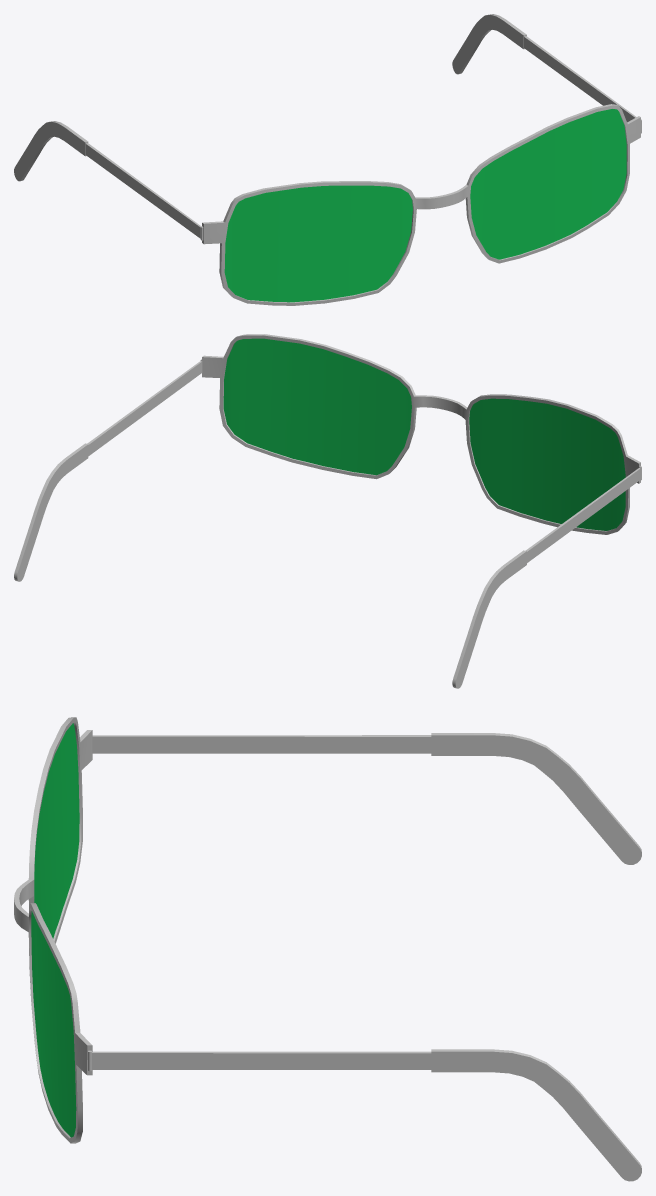
The model's file is glasses10.001.obj.
3 views of the same model, one above another, from view 1: azimuth 30°, elevation 25°; view 2: azimuth 150°, elevation 25°; view 3: azimuth 270°, elevation 25° (orthographic). The views are drawn at different scales.
Parts seen in each view (by area): view 1: glasses10.001_glasses10.001_Material.024, glasses10.001_glasses10.001_black; view 2: glasses10.001_glasses10.001_Material.024, glasses10.001_glasses10.001_black; view 3: glasses10.001_glasses10.001_black, glasses10.001_glasses10.001_Material.024.
Part boxes in pixels (x1,y1,x2,y2): glasses10.001_glasses10.001_Material.024: (224, 109, 626, 302); glasses10.001_glasses10.001_black: (14, 14, 641, 305); glasses10.001_glasses10.001_Material.024: (223, 338, 625, 530); glasses10.001_glasses10.001_black: (14, 334, 641, 688); glasses10.001_glasses10.001_black: (14, 717, 641, 1181); glasses10.001_glasses10.001_Material.024: (31, 723, 79, 1137).
Size of the model in its own units: 2.04 by 0.5517 by 1.7.
